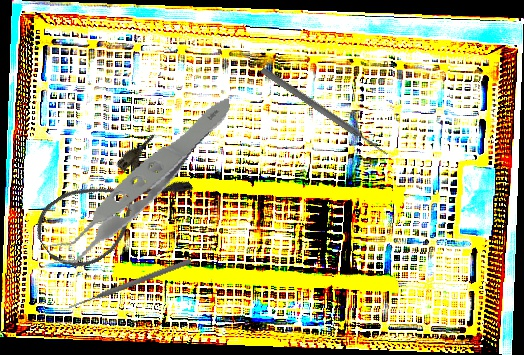Cannula: (25, 131, 197, 282)
Pusher: (259, 65, 390, 159), (67, 256, 193, 312)
Tissue Forceps: (13, 96, 256, 271)
